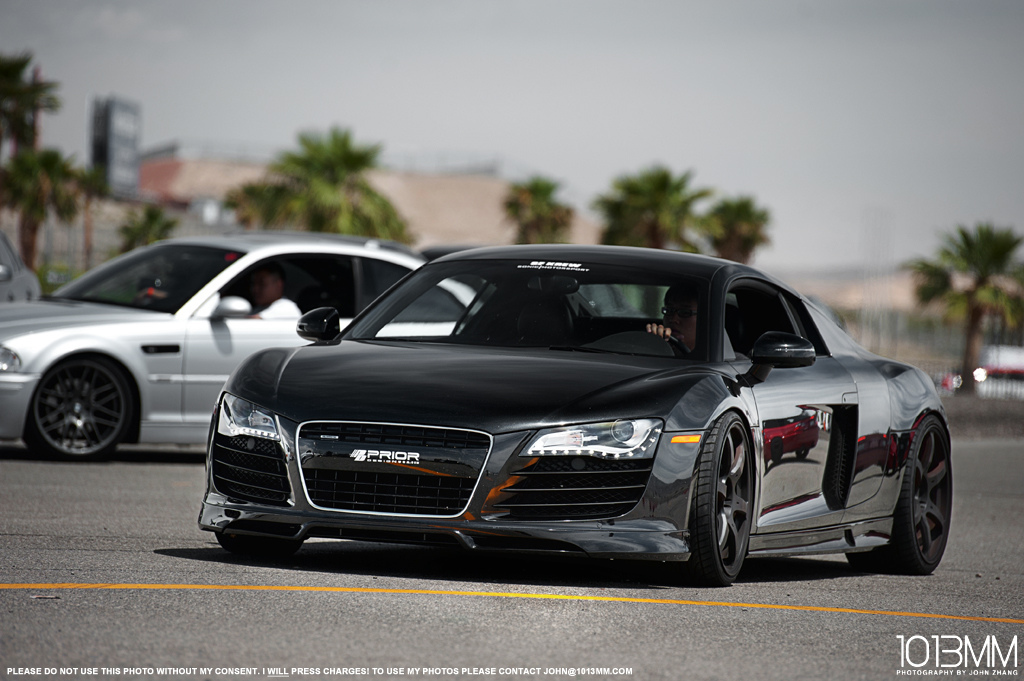cars: (148, 237, 936, 585), (0, 238, 487, 469)
